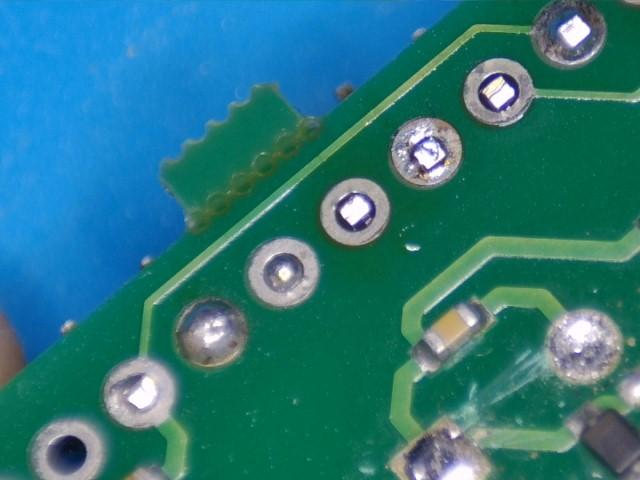pcb_defect: (104, 360, 175, 427), (248, 238, 318, 305), (392, 118, 462, 185), (175, 299, 245, 366), (551, 315, 619, 380)
